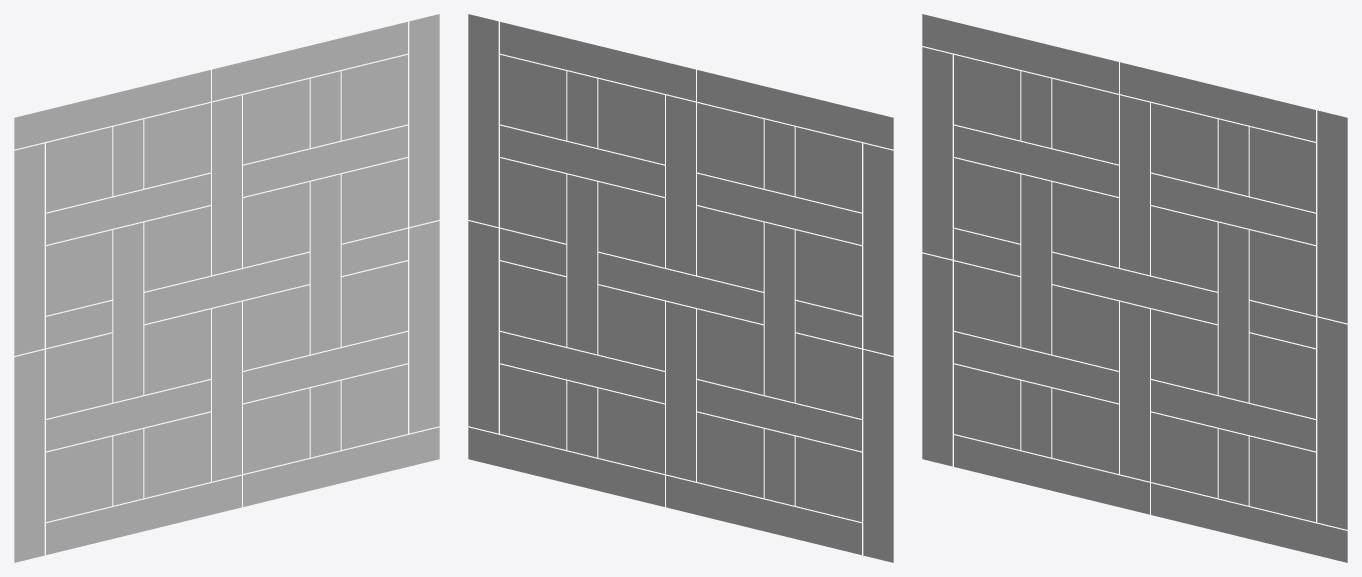
3 views of the same model, side by side, from view 1: azimuth 30°, elevation 25°; view 2: azimuth 150°, elevation 25°; view 3: azimuth 330°, elevation 25° (orthographic).
Visible parts, largest first — view 1: po01; view 2: po01; view 3: po01.
Boxes of the visible parts, left/top/right/bottom form: po01: left=14, top=14, right=439, bottom=562; po01: left=468, top=14, right=893, bottom=562; po01: left=922, top=14, right=1347, bottom=562.
Bounding box in the file's own units: 0.6096 × 0.6096 × 0.
39 materials, 39 textured.
